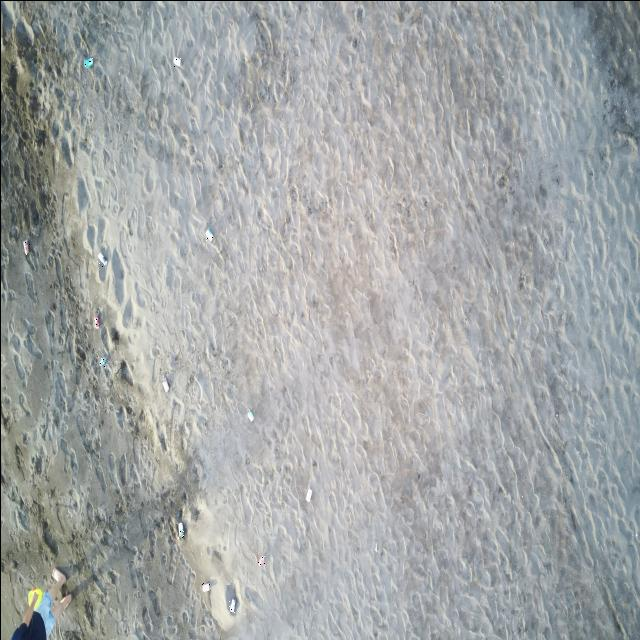Garbage: (27, 587, 43, 607), (99, 252, 107, 267), (23, 239, 30, 255), (228, 597, 235, 612), (161, 375, 167, 392), (99, 356, 107, 367), (83, 56, 91, 67), (172, 56, 180, 67), (206, 227, 212, 240), (306, 487, 311, 502), (178, 522, 183, 537), (94, 315, 100, 327), (201, 581, 208, 591), (247, 408, 252, 420), (258, 555, 264, 564)
